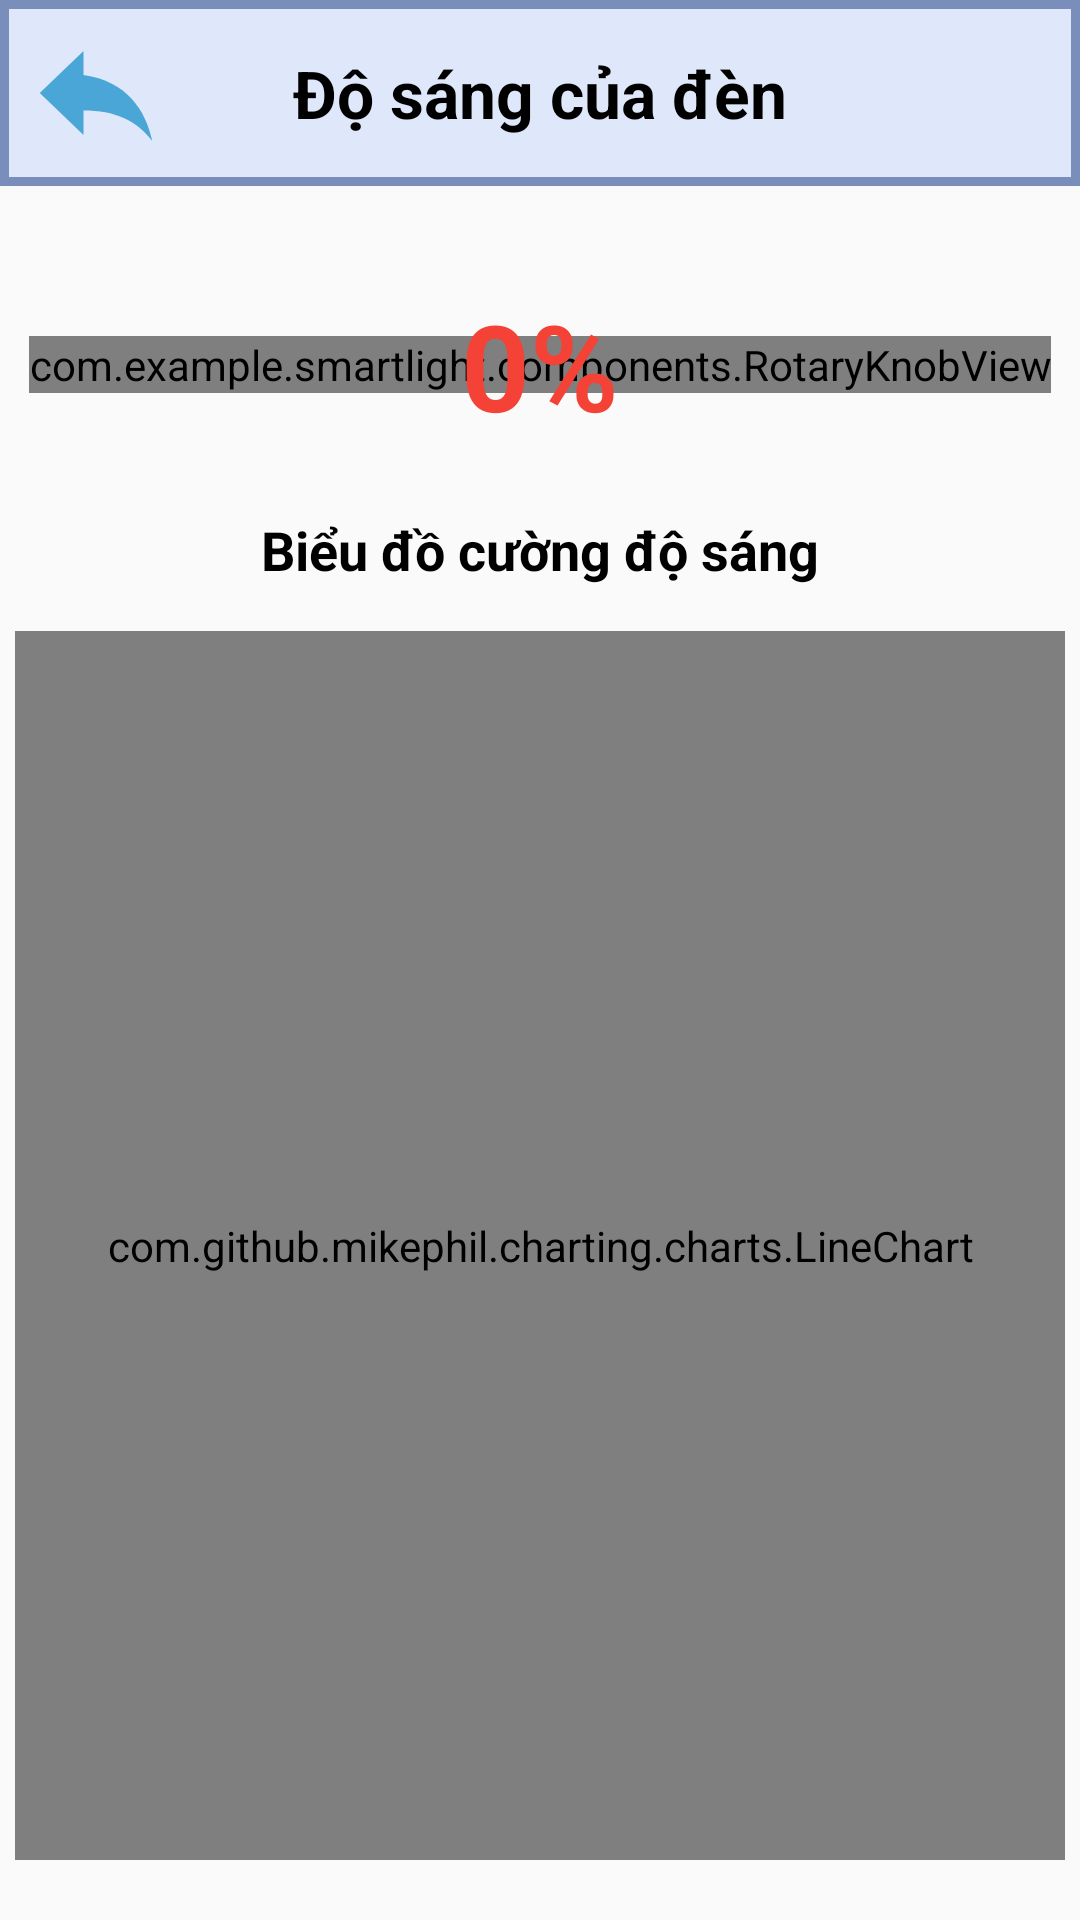

Screen size 1080px x 1920px. Icon name, then its box in pixels as (x1, y1, x2, y2):
back: (40, 51, 152, 141)
